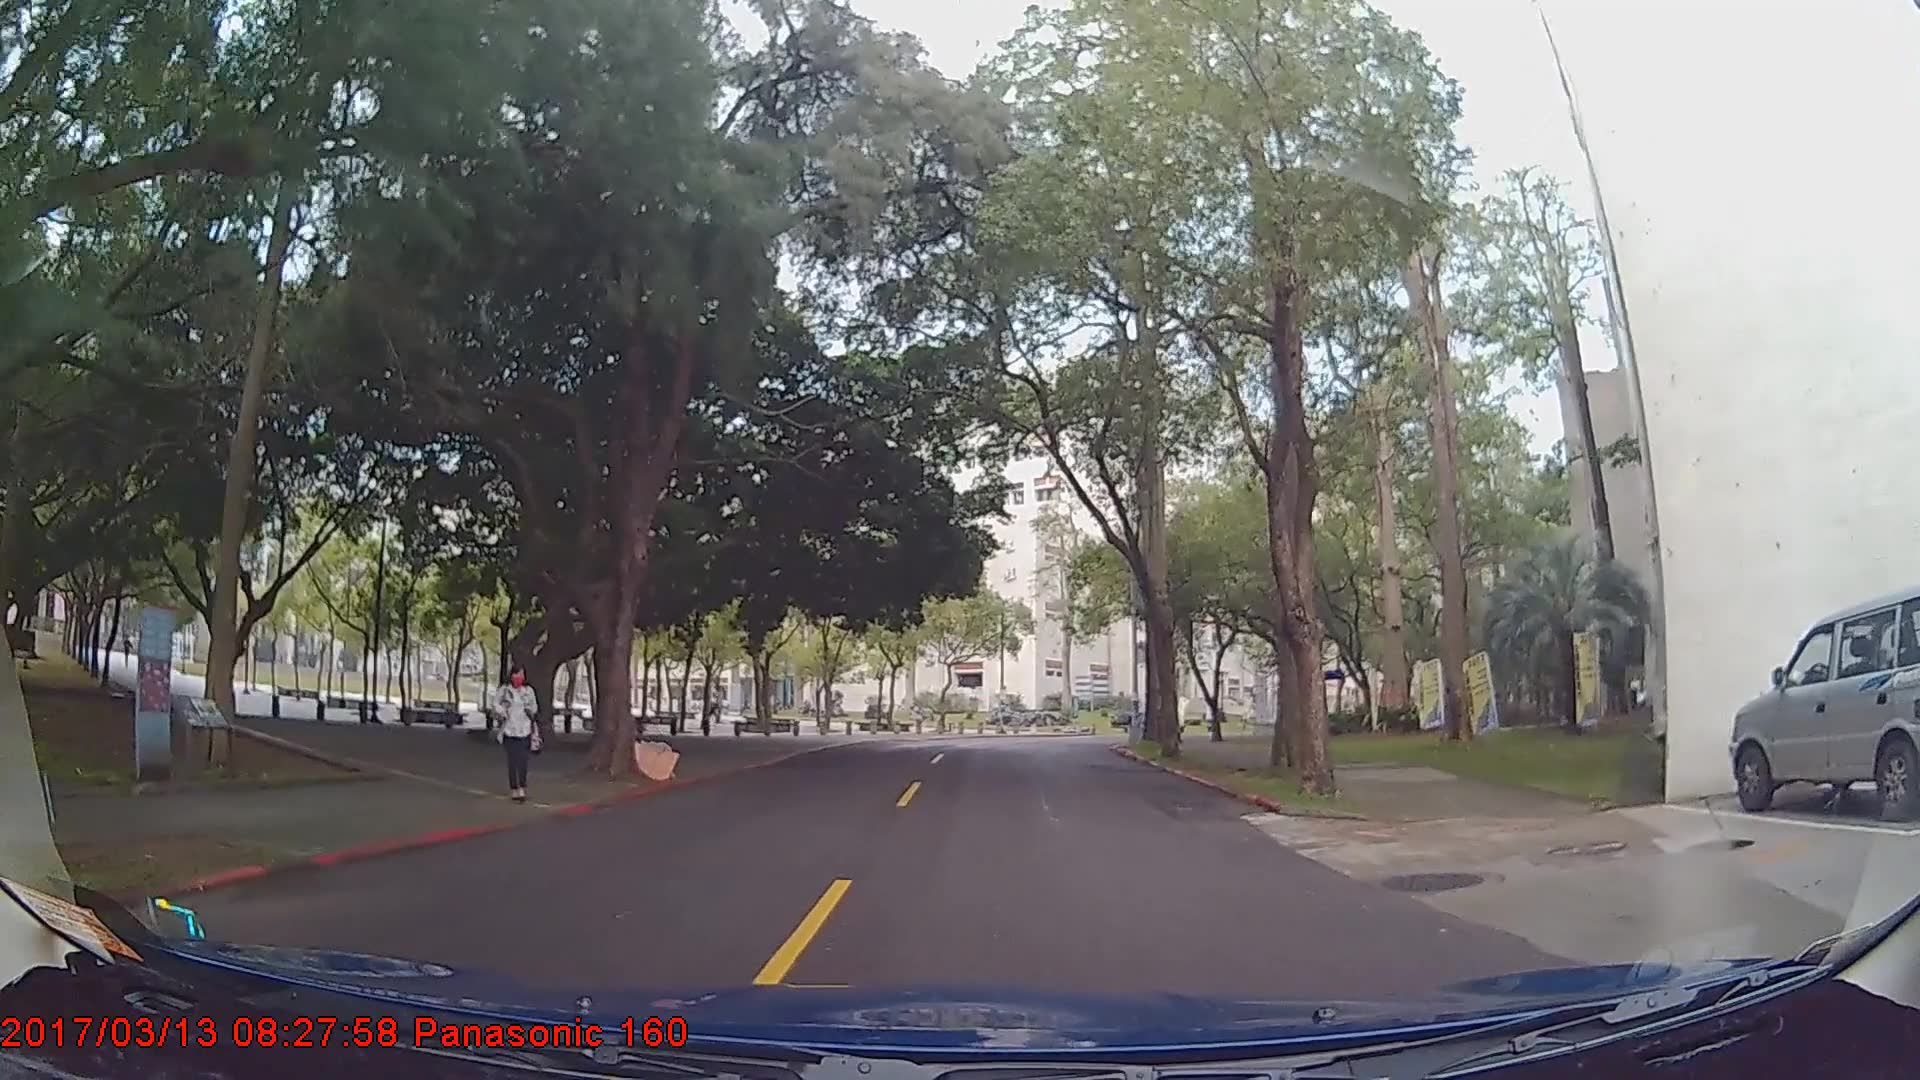pedestrian: (489, 664, 545, 801)
vehicle: (1730, 584, 1920, 819)
